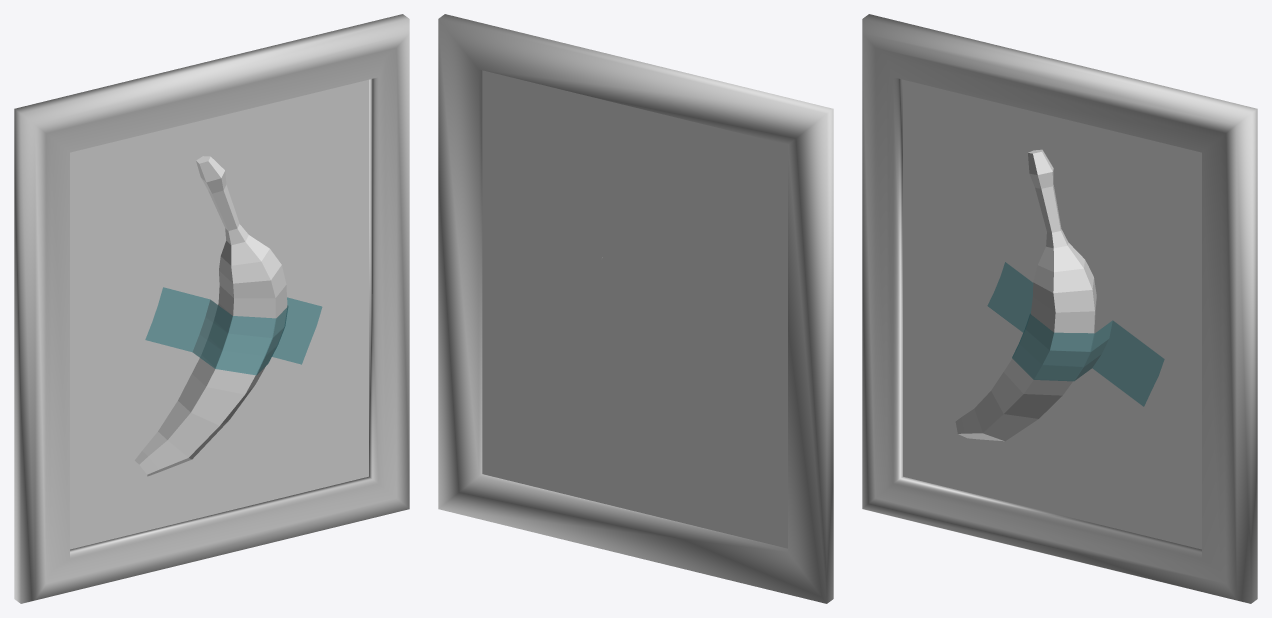
The model's file is banana.fbx.
3 renders of one model, left to right at view 1: azimuth 30°, elevation 25°; view 2: azimuth 150°, elevation 25°; view 3: azimuth 330°, elevation 25°, orthographic.
Visible parts, largest first — view 1: banan.003, banan.002, banan.001, banan.004; view 2: banan, banan.002; view 3: banan.003, banan.002, banan.001, banan.004.
Part boxes in pixels (x1=…): banan.003: x1=70, y1=79, x2=368, y2=549; banan.002: x1=14, y1=14, x2=409, y2=603; banan.001: x1=134, y1=156, x2=287, y2=476; banan.004: x1=145, y1=287, x2=322, y2=375; banan: x1=482, y1=70, x2=787, y2=548; banan.002: x1=438, y1=14, x2=833, y2=603; banan.003: x1=903, y1=79, x2=1201, y2=549; banan.002: x1=862, y1=14, x2=1257, y2=603; banan.001: x1=955, y1=149, x2=1096, y2=441; banan.004: x1=987, y1=262, x2=1164, y2=406.
Size of the model in its own units: 74.33 by 89.58 by 12.92.
